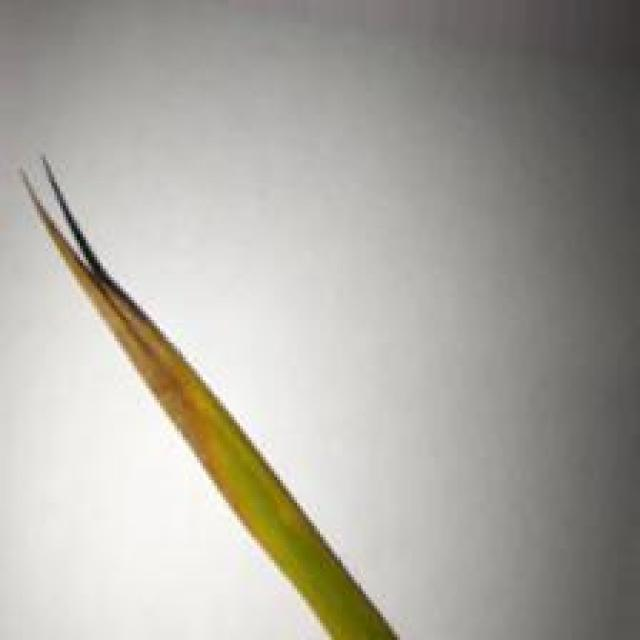Narrow_Brown_Leaf_Spot: (34, 202, 222, 507)
